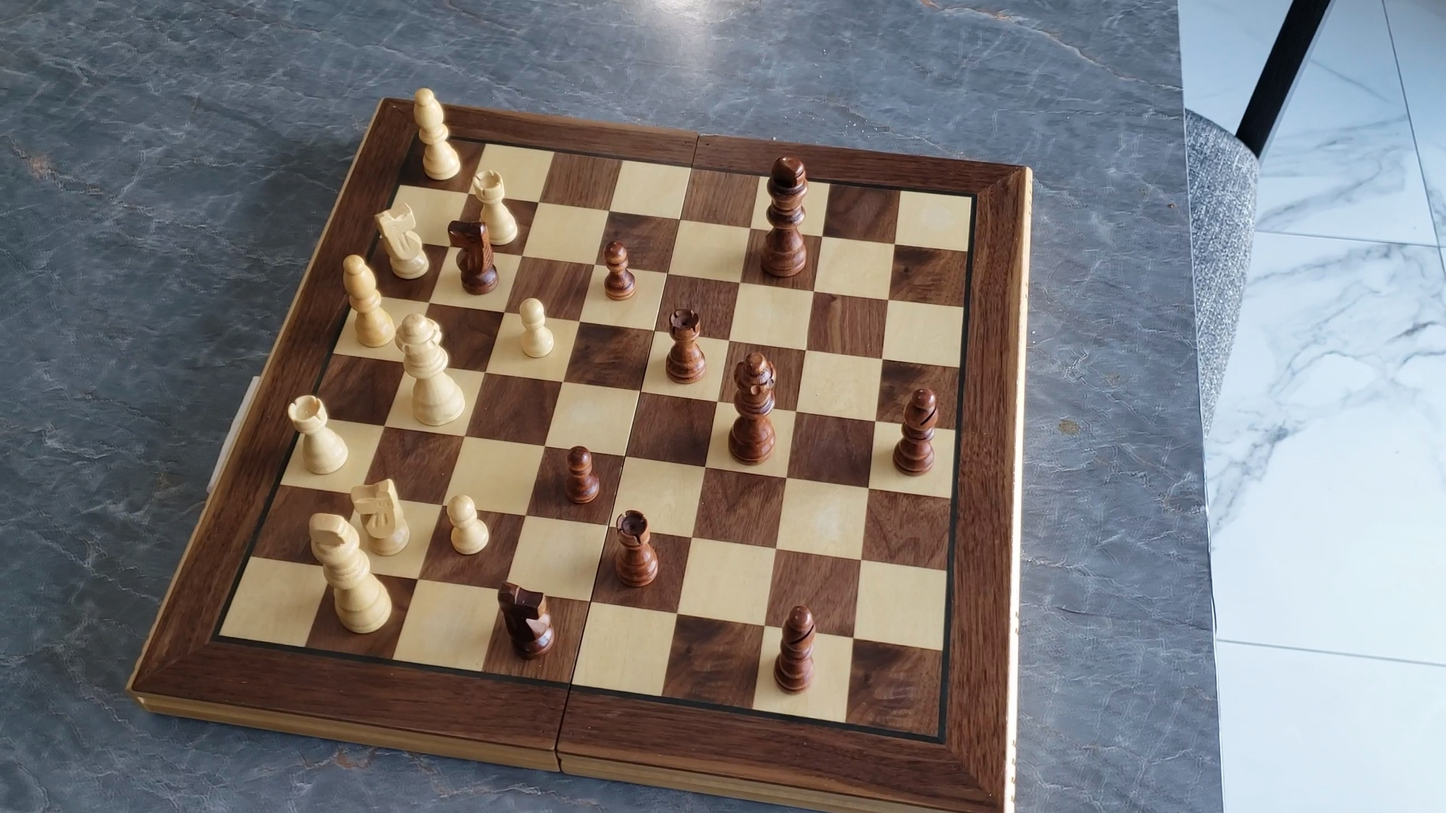black-bishop: (892, 381, 942, 477), (772, 601, 820, 697)
black-king: (759, 149, 813, 283)
black-knight: (494, 580, 560, 661), (446, 216, 502, 296)
black-pawn: (560, 441, 603, 508), (600, 236, 639, 303)
black-queen: (725, 350, 781, 466)
black-rook: (607, 507, 661, 590), (665, 306, 709, 383)
white-bishop: (337, 251, 397, 351), (408, 82, 464, 185)
white-king: (303, 512, 398, 639)
white-knight: (345, 475, 415, 559), (373, 200, 434, 283)
white-pawn: (442, 490, 494, 559), (513, 293, 560, 364)
white-queen: (391, 312, 472, 430)
white-rook: (284, 392, 354, 478), (468, 167, 524, 250)
